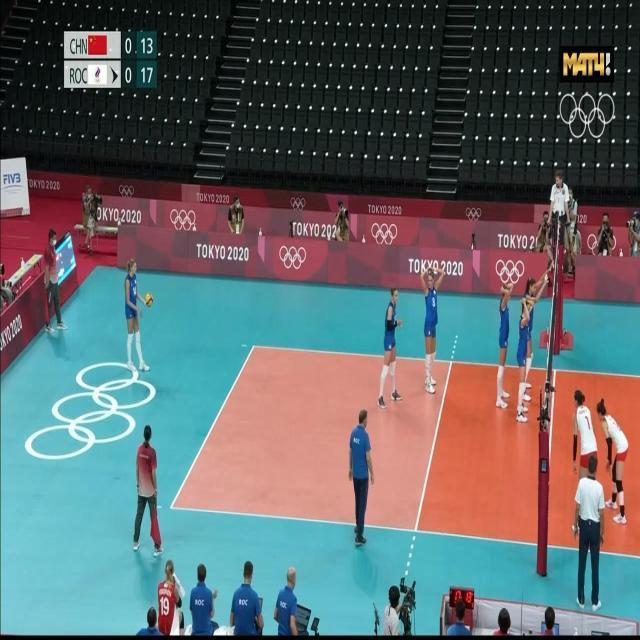volleyball: (145, 293, 153, 306)
